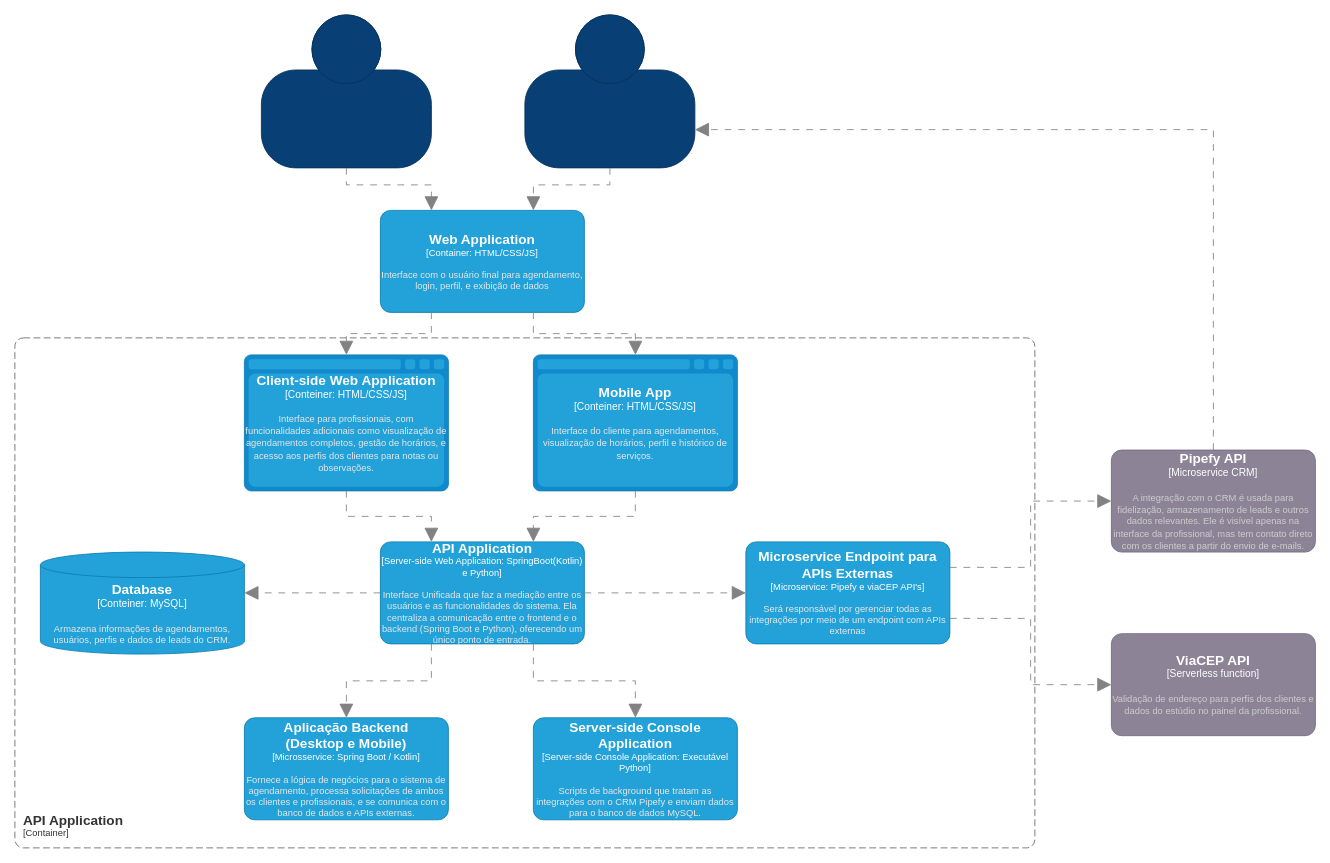
This 1330x863 diagram has some shape labels left out. The shapes that lost their labels are listed below. From the top down, each one's centre as x and y in pixels, then its label:
(346,91): Profissional [Client-side Desktop Application] Integrage com a interface desktop
(609,91): Cliente [Mobile App] Interage com a interface mobile
